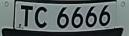6: (55, 3, 71, 33), (98, 3, 113, 29), (71, 4, 85, 31), (85, 3, 99, 30)
C: (34, 3, 51, 33)
T: (18, 4, 34, 31)
